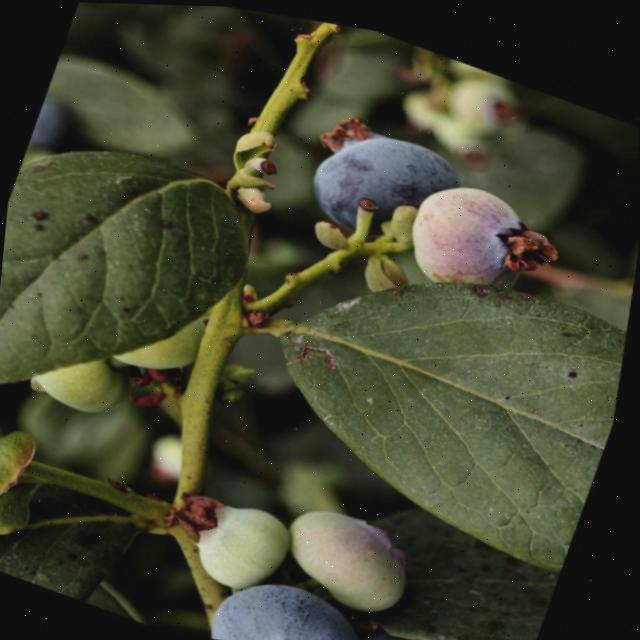RipeBlueBerry: (207, 555, 373, 640)
Semi-RipeBlueBerry: (399, 159, 552, 299)
